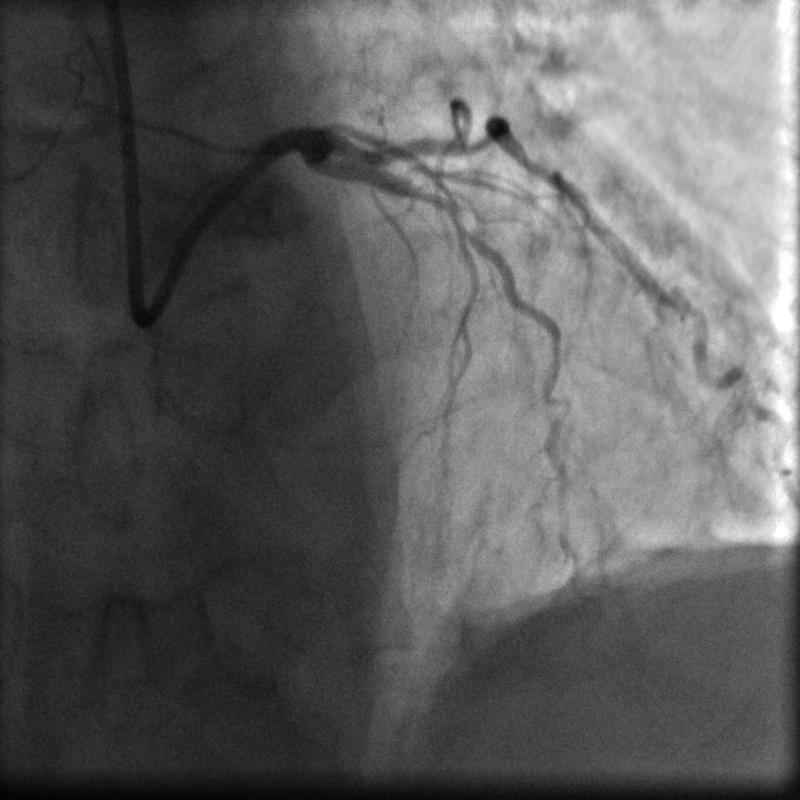Stenosis: (404, 174, 465, 227)
